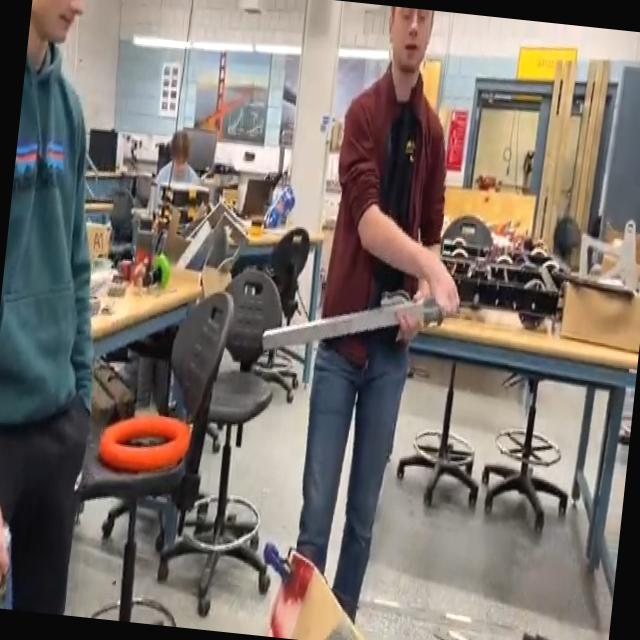note: (93, 404, 196, 484)
